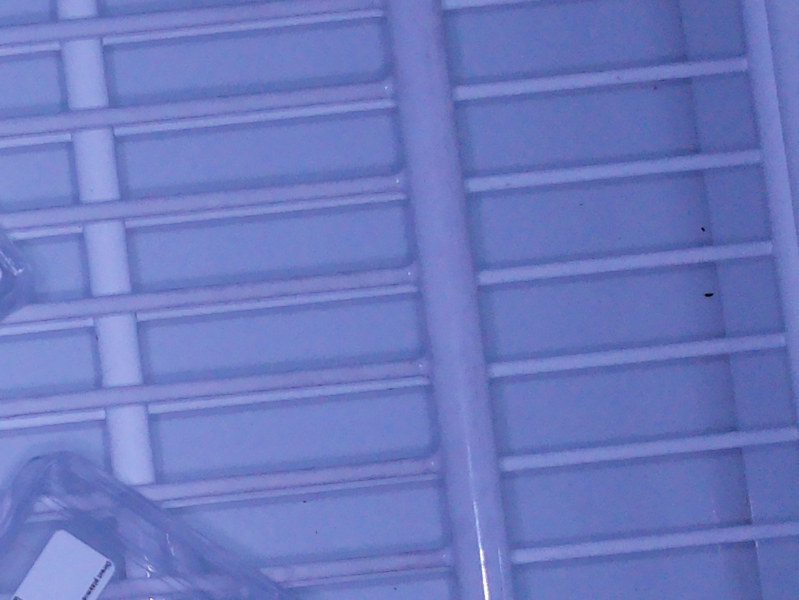plate: (1, 450, 293, 600), (1, 235, 35, 320)
